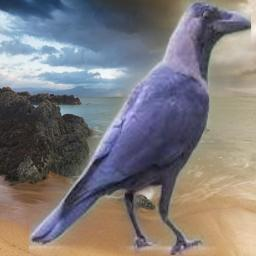Crow: (29, 0, 251, 255)
